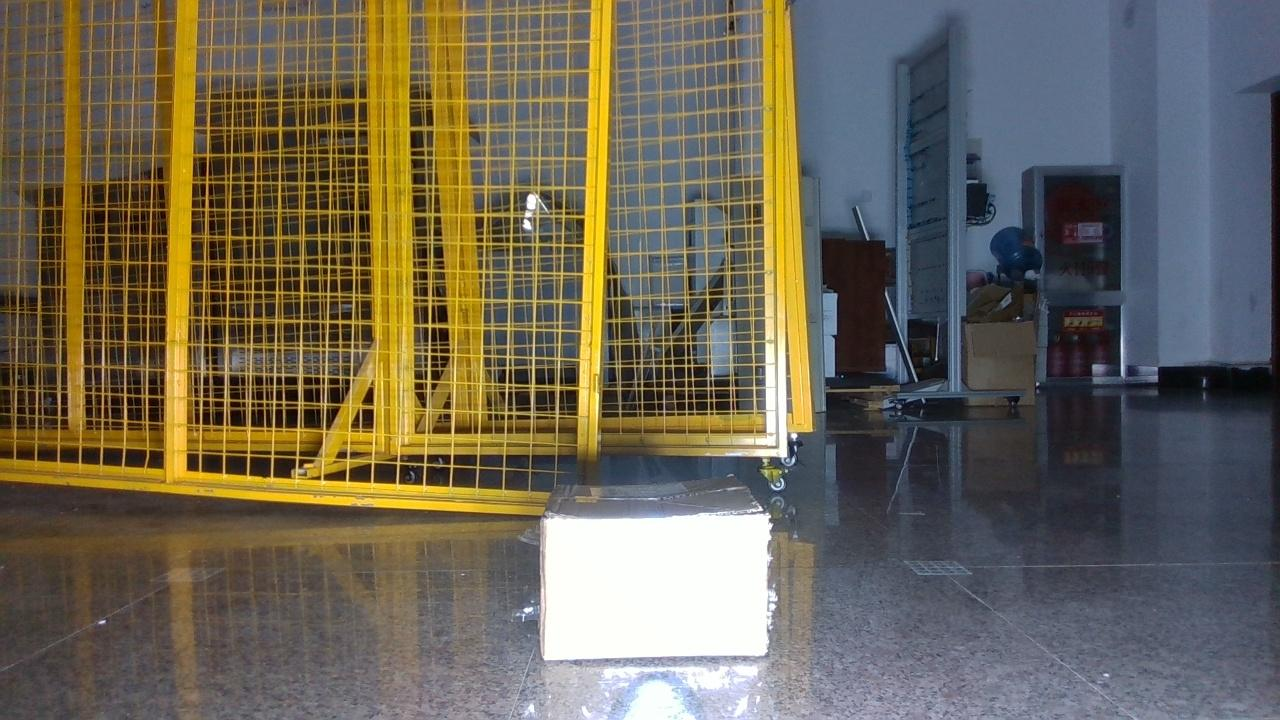box: (540, 475, 770, 660)
